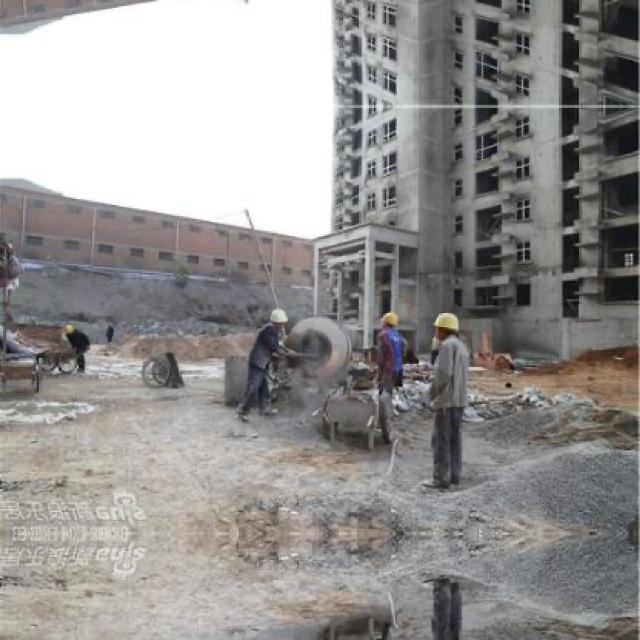con casco: (419, 295, 474, 350)
